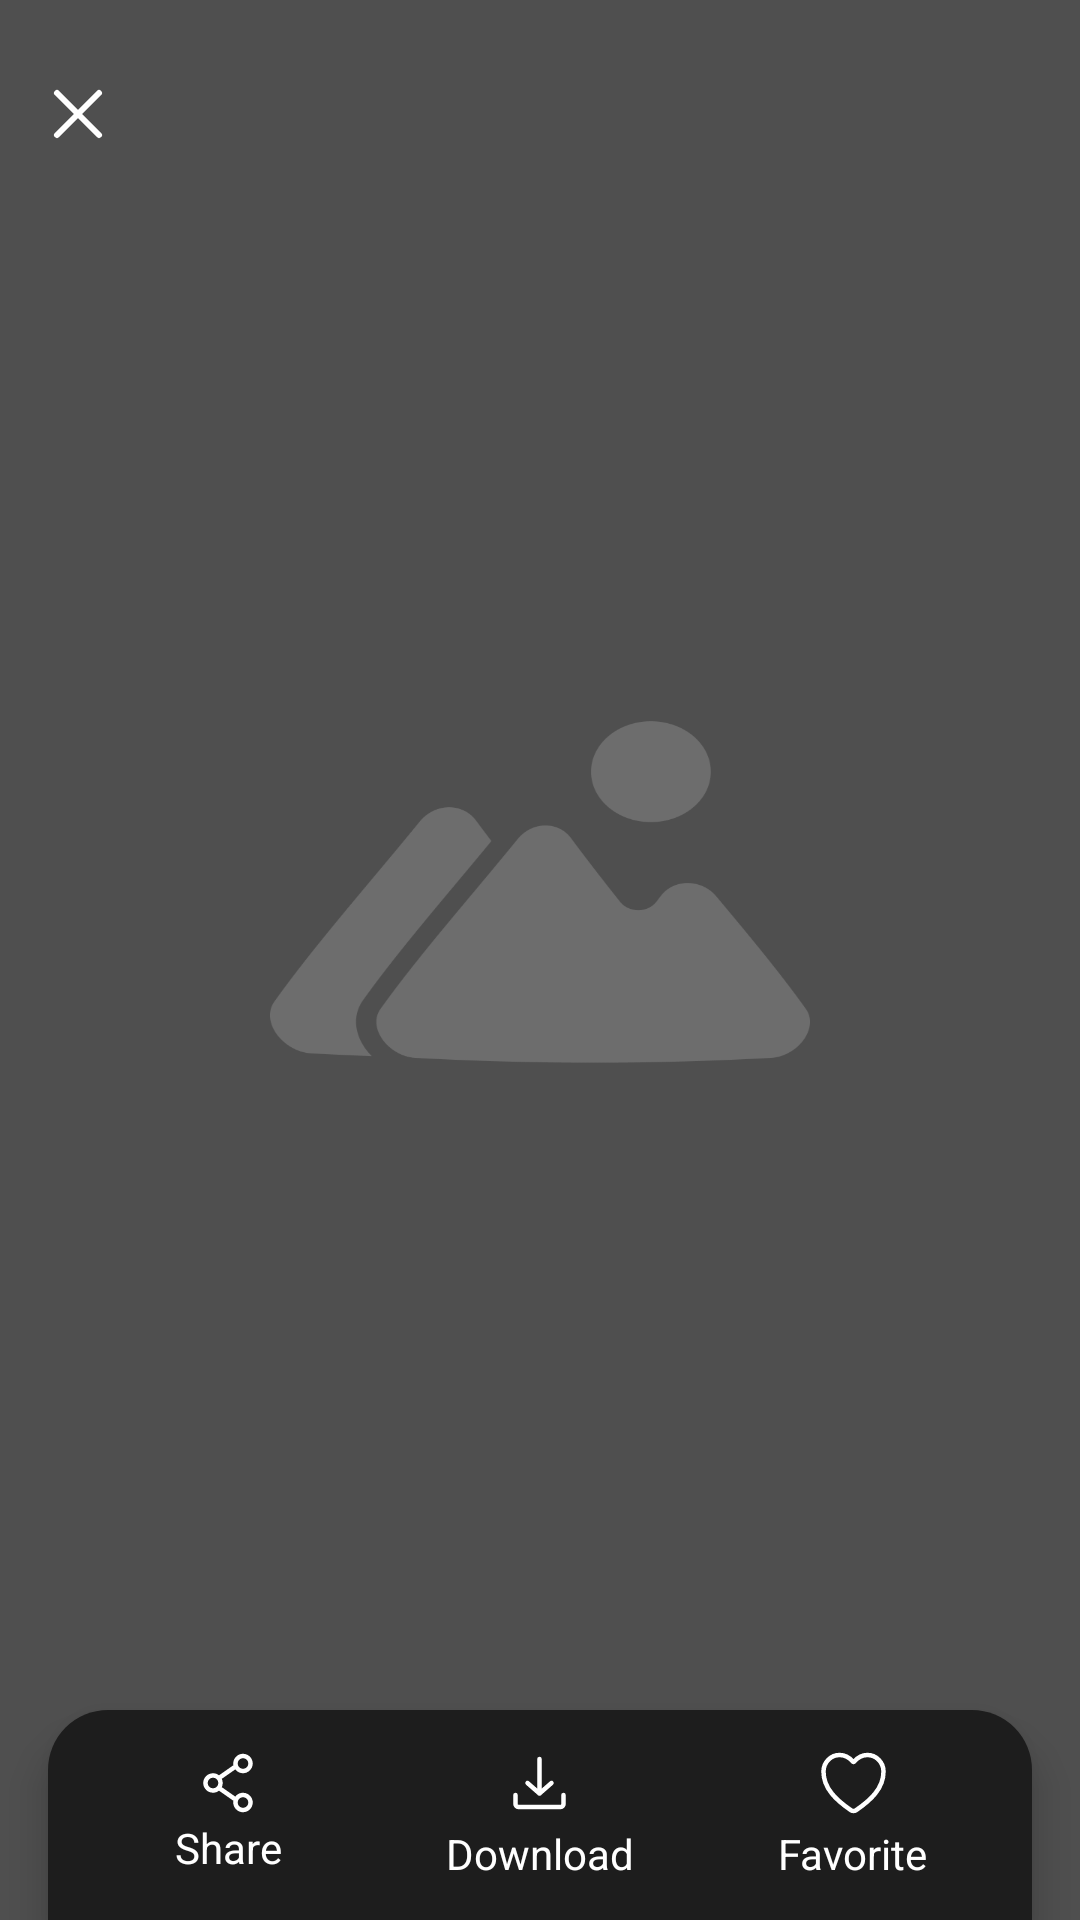

Named icons in this screenshot (1080*1920) and their bounding boxes, region(x1, y1, x2, y2):
close: region(54, 90, 102, 138)
